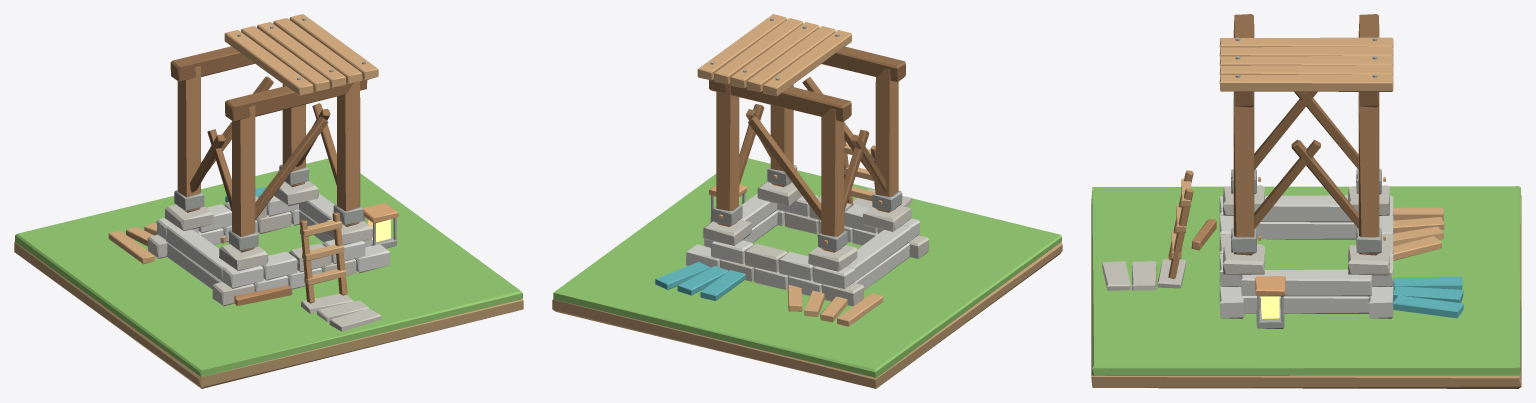
The model's file is tower_l01_damaged_LOD1.glb.
3 renders of one model, left to right at view 1: azimuth 30°, elevation 25°; view 2: azimuth 150°, elevation 25°; view 3: azimuth 270°, elevation 25°, orthographic. The views are drawn at different scales.
Parts seen in each view (by area): view 1: tower_l01_grass_tile_tower_l01_damaged_LOD1_tmp, tower_l01_earth_tile_tower_l01_damaged_LOD1_tmp, upright_0.58_-0.52_tower_l01_damaged_LOD1_tmp, upright_-0.58_-0.52_tower_l01_damaged_LOD1_tmp, upright_-0.58_0.52_tower_l01_damaged_LOD1_tmp, deck_bearer_-0.52_tower_l01_damaged_LOD1_tmp, deck_board_4_tower_l01_damaged_LOD1_tmp, deck_bearer_0.52_tower_l01_damaged_LOD1_tmp, plinth_return_1_-0.73_tower_l01_damaged_LOD1_tmp, deck_board_7_tower_l01_damaged_LOD1_tmp, deck_board_5_tower_l01_damaged_LOD1_tmp, deck_board_8_tower_l01_damaged_LOD1_tmp (+30 smaller); view 2: tower_l01_grass_tile_tower_l01_damaged_LOD1_tmp, tower_l01_earth_tile_tower_l01_damaged_LOD1_tmp, upright_-0.58_0.52_tower_l01_damaged_LOD1_tmp, upright_0.58_0.52_tower_l01_damaged_LOD1_tmp, upright_-0.58_-0.52_tower_l01_damaged_LOD1_tmp, deck_bearer_0.52_tower_l01_damaged_LOD1_tmp, deck_board_4_tower_l01_damaged_LOD1_tmp, deck_bearer_-0.52_tower_l01_damaged_LOD1_tmp, plinth_return_1_-0.73_tower_l01_damaged_LOD1_tmp, deck_board_5_tower_l01_damaged_LOD1_tmp, deck_board_7_tower_l01_damaged_LOD1_tmp, deck_board_8_tower_l01_damaged_LOD1_tmp (+29 smaller); view 3: tower_l01_grass_tile_tower_l01_damaged_LOD1_tmp, tower_l01_earth_tile_tower_l01_damaged_LOD1_tmp, deck_board_8_tower_l01_damaged_LOD1_tmp, upright_0.58_-0.52_tower_l01_damaged_LOD1_tmp, upright_0.58_0.52_tower_l01_damaged_LOD1_tmp, plinth_return_1_0.73_tower_l01_damaged_LOD1_tmp, plinth_return_1_-0.73_tower_l01_damaged_LOD1_tmp, plinth_return_0_0.73_tower_l01_damaged_LOD1_tmp, plinth_return_0_-0.73_tower_l01_damaged_LOD1_tmp, deck_board_7_tower_l01_damaged_LOD1_tmp, deck_board_6_tower_l01_damaged_LOD1_tmp, deck_board_5_tower_l01_damaged_LOD1_tmp (+29 smaller).
Boxes of the visible parts, x1=… form: tower_l01_grass_tile_tower_l01_damaged_LOD1_tmp: x1=15, y1=158, x2=522, y2=377; tower_l01_earth_tile_tower_l01_damaged_LOD1_tmp: x1=14, y1=242, x2=523, y2=388; upright_0.58_-0.52_tower_l01_damaged_LOD1_tmp: x1=337, y1=81, x2=360, y2=226; upright_-0.58_-0.52_tower_l01_damaged_LOD1_tmp: x1=232, y1=106, x2=255, y2=252; upright_-0.58_0.52_tower_l01_damaged_LOD1_tmp: x1=177, y1=66, x2=200, y2=212; deck_bearer_-0.52_tower_l01_damaged_LOD1_tmp: x1=225, y1=79, x2=367, y2=121; deck_board_4_tower_l01_damaged_LOD1_tmp: x1=224, y1=30, x2=313, y2=96; deck_bearer_0.52_tower_l01_damaged_LOD1_tmp: x1=170, y1=46, x2=254, y2=82; plinth_return_1_-0.73_tower_l01_damaged_LOD1_tmp: x1=166, y1=224, x2=228, y2=281; deck_board_7_tower_l01_damaged_LOD1_tmp: x1=273, y1=18, x2=362, y2=84; deck_board_5_tower_l01_damaged_LOD1_tmp: x1=241, y1=26, x2=329, y2=92; deck_board_8_tower_l01_damaged_LOD1_tmp: x1=289, y1=14, x2=378, y2=80; tower_l01_grass_tile_tower_l01_damaged_LOD1_tmp: x1=553, y1=158, x2=1061, y2=378; tower_l01_earth_tile_tower_l01_damaged_LOD1_tmp: x1=552, y1=242, x2=1062, y2=388; upright_-0.58_0.52_tower_l01_damaged_LOD1_tmp: x1=821, y1=108, x2=844, y2=252; upright_0.58_0.52_tower_l01_damaged_LOD1_tmp: x1=716, y1=84, x2=739, y2=226; upright_-0.58_-0.52_tower_l01_damaged_LOD1_tmp: x1=875, y1=69, x2=898, y2=212; deck_bearer_0.52_tower_l01_damaged_LOD1_tmp: x1=709, y1=79, x2=851, y2=121; deck_board_4_tower_l01_damaged_LOD1_tmp: x1=763, y1=30, x2=851, y2=96; deck_bearer_-0.52_tower_l01_damaged_LOD1_tmp: x1=821, y1=46, x2=905, y2=82; plinth_return_1_-0.73_tower_l01_damaged_LOD1_tmp: x1=847, y1=225, x2=910, y2=282; deck_board_5_tower_l01_damaged_LOD1_tmp: x1=746, y1=26, x2=835, y2=92; deck_board_7_tower_l01_damaged_LOD1_tmp: x1=714, y1=18, x2=803, y2=84; deck_board_8_tower_l01_damaged_LOD1_tmp: x1=697, y1=14, x2=786, y2=80; tower_l01_grass_tile_tower_l01_damaged_LOD1_tmp: x1=1092, y1=186, x2=1520, y2=375; tower_l01_earth_tile_tower_l01_damaged_LOD1_tmp: x1=1091, y1=195, x2=1521, y2=388; deck_board_8_tower_l01_damaged_LOD1_tmp: x1=1219, y1=74, x2=1393, y2=91; upright_0.58_-0.52_tower_l01_damaged_LOD1_tmp: x1=1233, y1=92, x2=1254, y2=255; upright_0.58_0.52_tower_l01_damaged_LOD1_tmp: x1=1358, y1=92, x2=1379, y2=255; plinth_return_1_0.73_tower_l01_damaged_LOD1_tmp: x1=1241, y1=269, x2=1371, y2=296; plinth_return_1_-0.73_tower_l01_damaged_LOD1_tmp: x1=1261, y1=195, x2=1352, y2=222; plinth_return_0_0.73_tower_l01_damaged_LOD1_tmp: x1=1242, y1=296, x2=1369, y2=313; plinth_return_0_-0.73_tower_l01_damaged_LOD1_tmp: x1=1256, y1=222, x2=1357, y2=239; deck_board_7_tower_l01_damaged_LOD1_tmp: x1=1219, y1=65, x2=1393, y2=74; deck_board_6_tower_l01_damaged_LOD1_tmp: x1=1219, y1=56, x2=1393, y2=65; deck_board_5_tower_l01_damaged_LOD1_tmp: x1=1219, y1=46, x2=1393, y2=56.
Bounding box in the file's own units: 3.6 × 2.39 × 3.58.
